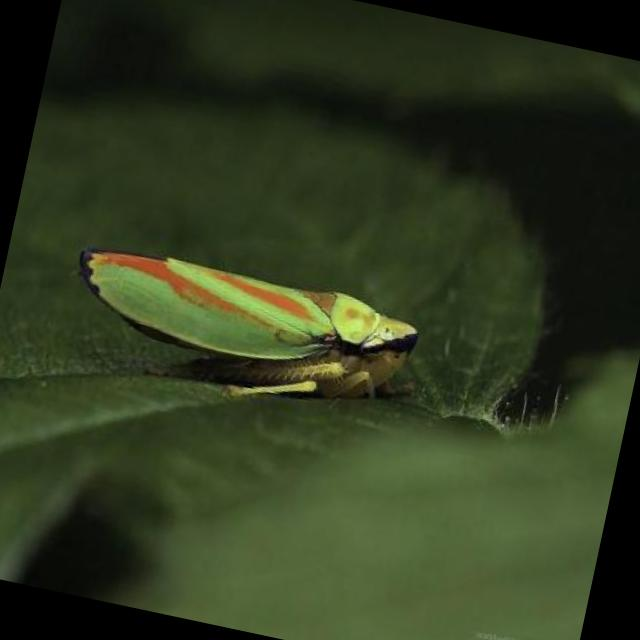green-leafhopper: (58, 233, 423, 426)
